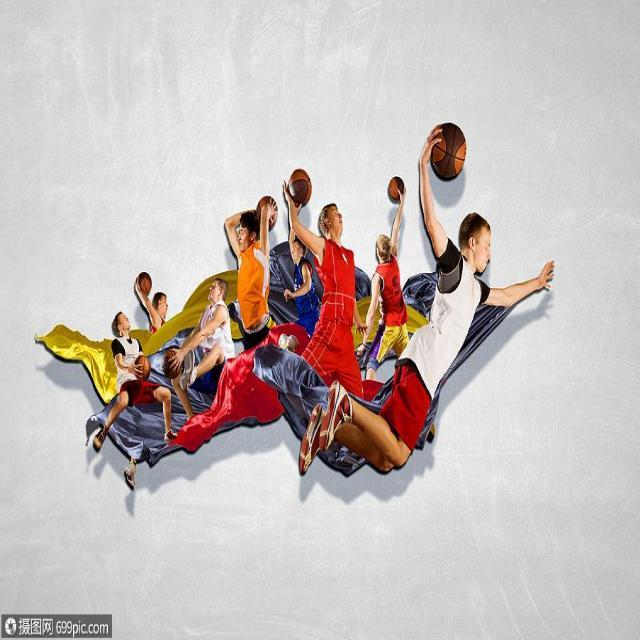rim: (433, 122, 467, 178), (289, 169, 311, 206), (256, 198, 278, 228), (160, 350, 182, 376), (388, 177, 404, 203), (134, 355, 150, 380), (138, 270, 152, 298)
